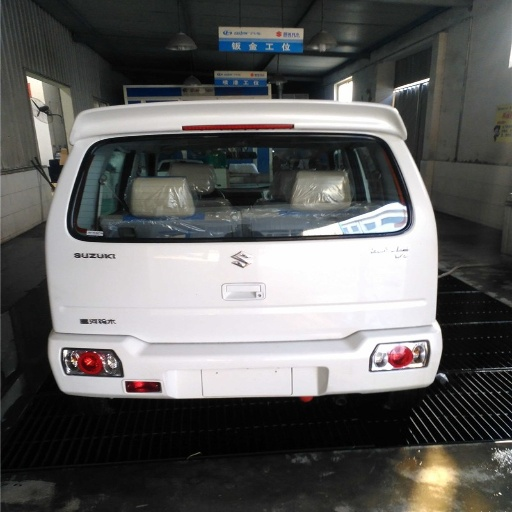back_bumper: (14, 282, 448, 399)
back_glass: (88, 139, 324, 238)
